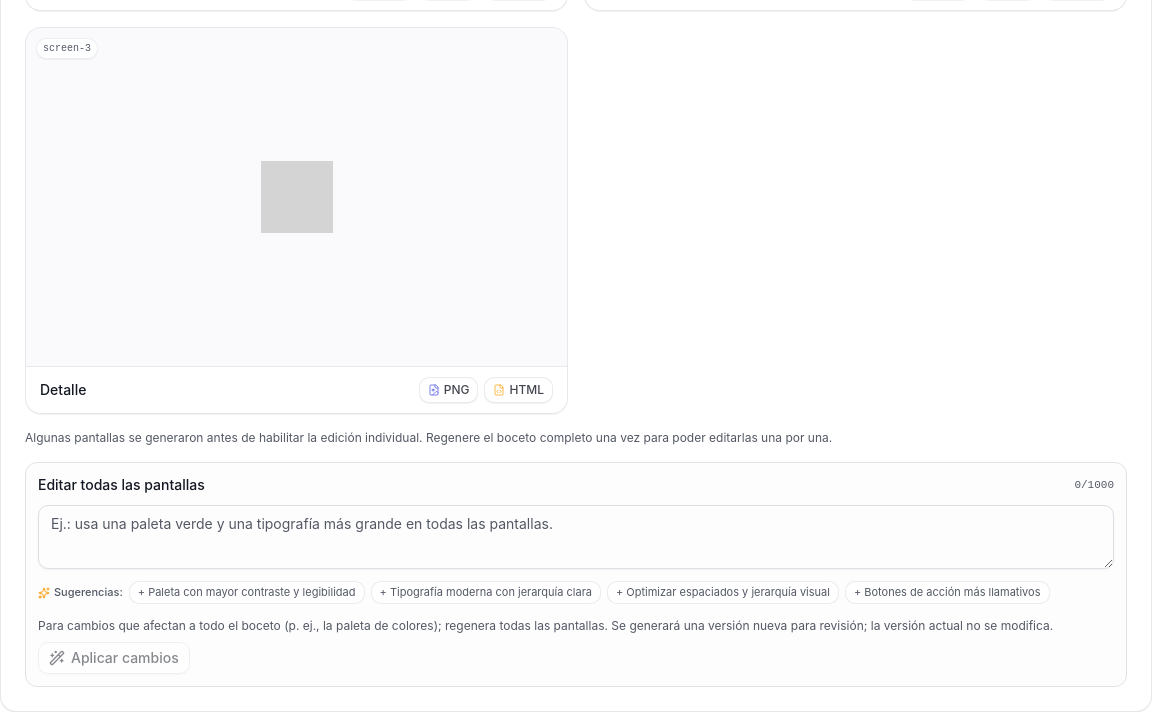
Test: MockupsPage refinement suggestions and options › populates refinement input when clicking suggestion chips
(page scrolled)
Expected: the text box labelled "Editar todas las pantallas" is empty, x1=38 y1=505 x2=1114 y2=569
Click the button "+ Paleta con mayor contraste y legibilidad". click: [247, 593]
box: x1=129 y1=581 x2=365 y2=604
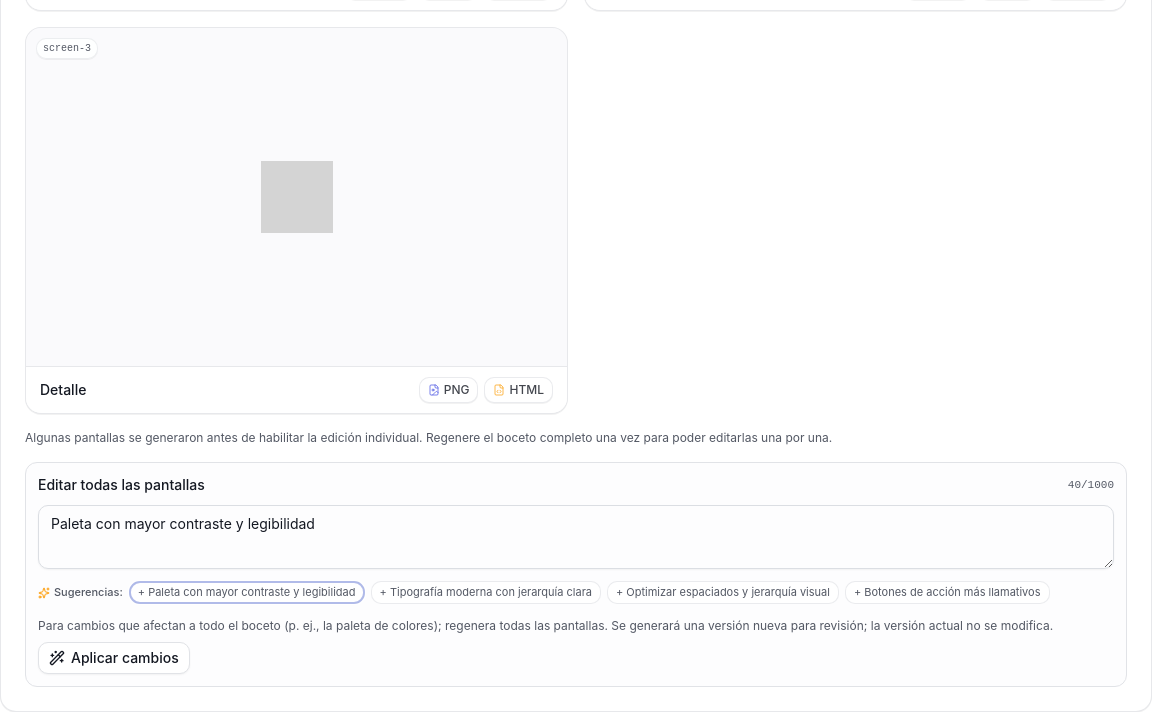
Result: the text box labelled "Editar todas las pantallas" holds "Paleta con mayor contraste y legibilidad" at x1=38 y1=505 x2=1114 y2=569
Click the button "+ Tipografía moderna con jerarquía clara". click: [486, 593]
box: x1=370 y1=581 x2=601 y2=604
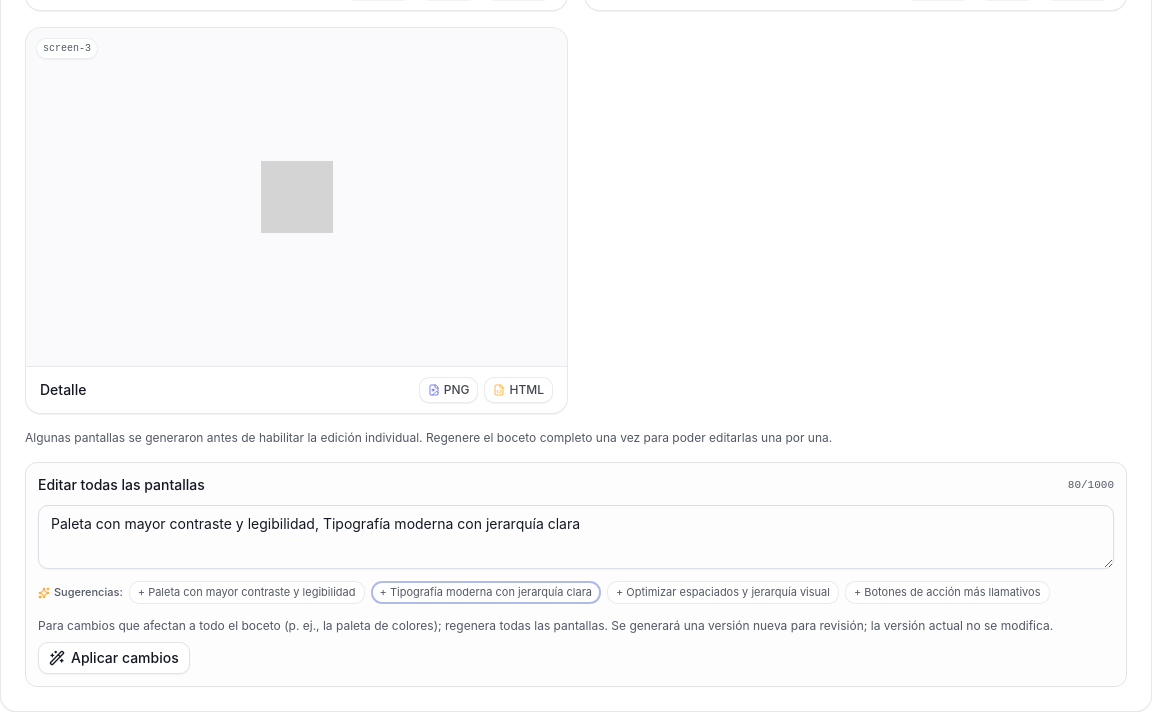
Result: the text box labelled "Editar todas las pantallas" holds "Paleta con mayor contraste y legibilidad, Tipografía moderna con jerarquía clara" at x1=38 y1=505 x2=1114 y2=569
